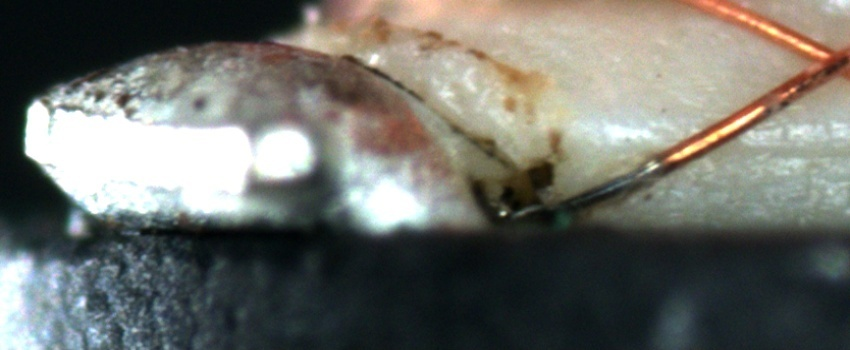CL: (784, 27, 847, 89)
DL: (625, 104, 849, 163)
TS: (506, 158, 666, 225)
TTCW: (512, 124, 713, 223)
